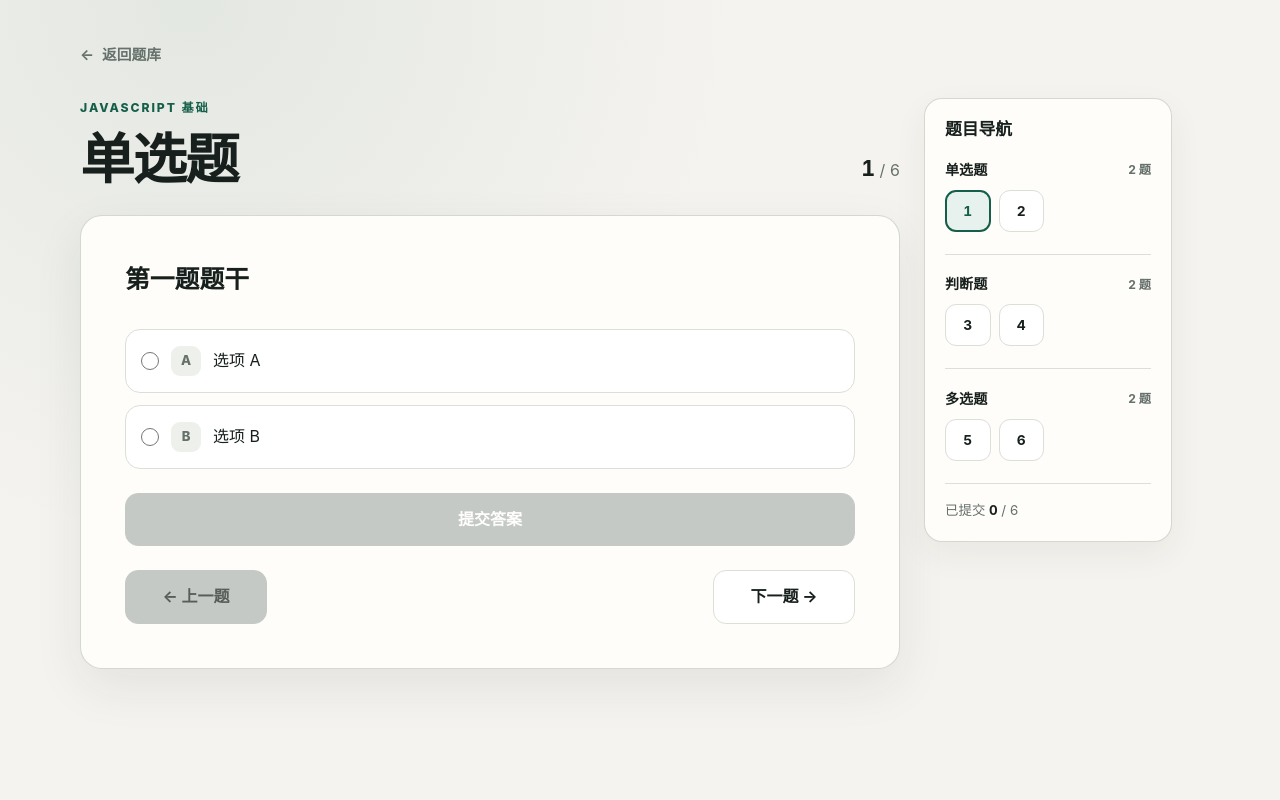
Scenario: PracticePage › preserves the selection after a failed submit and permits retry
Expected: the text "第一题题干" is shown, [125,264,249,294]
Step 1. Click the radio button labelled "A 选项 A" → (150, 361), box [141,352,159,370]
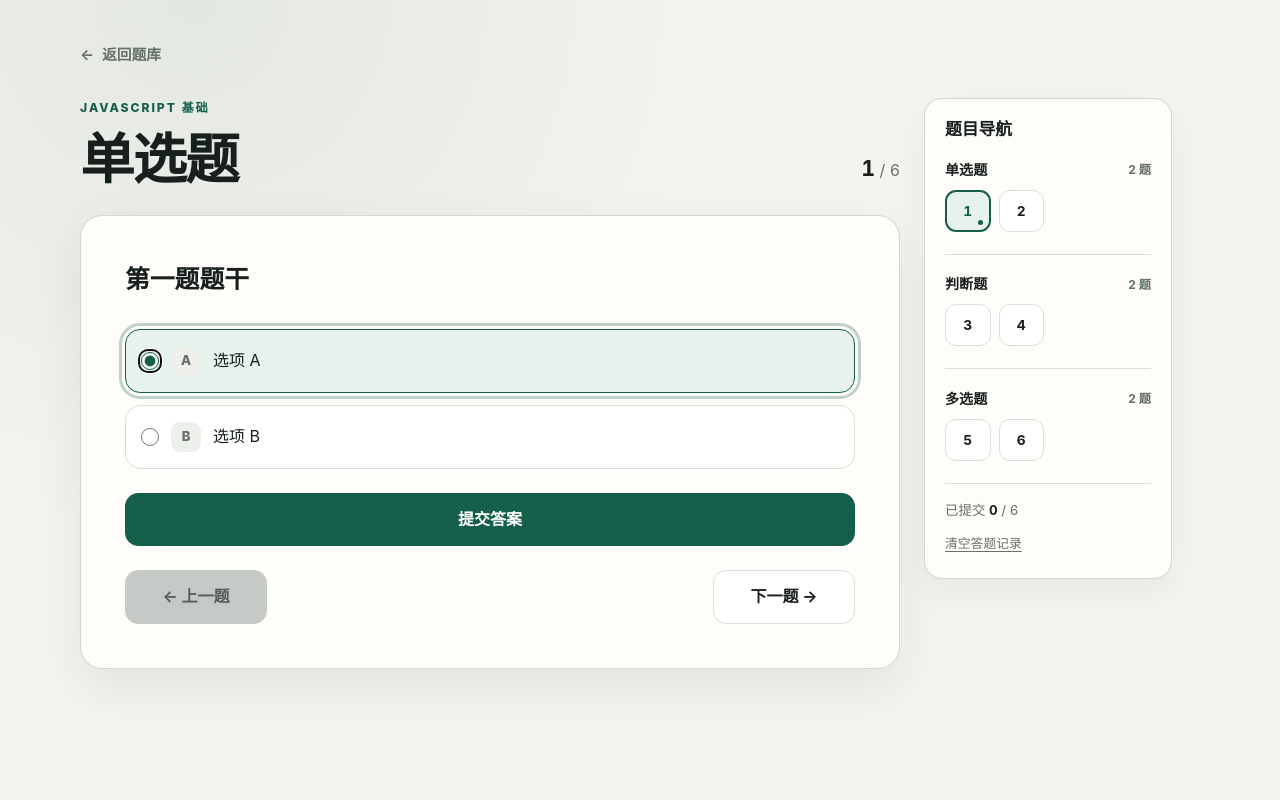
Step 2. Click the button "提交答案" → (490, 519), box [125,493,855,546]
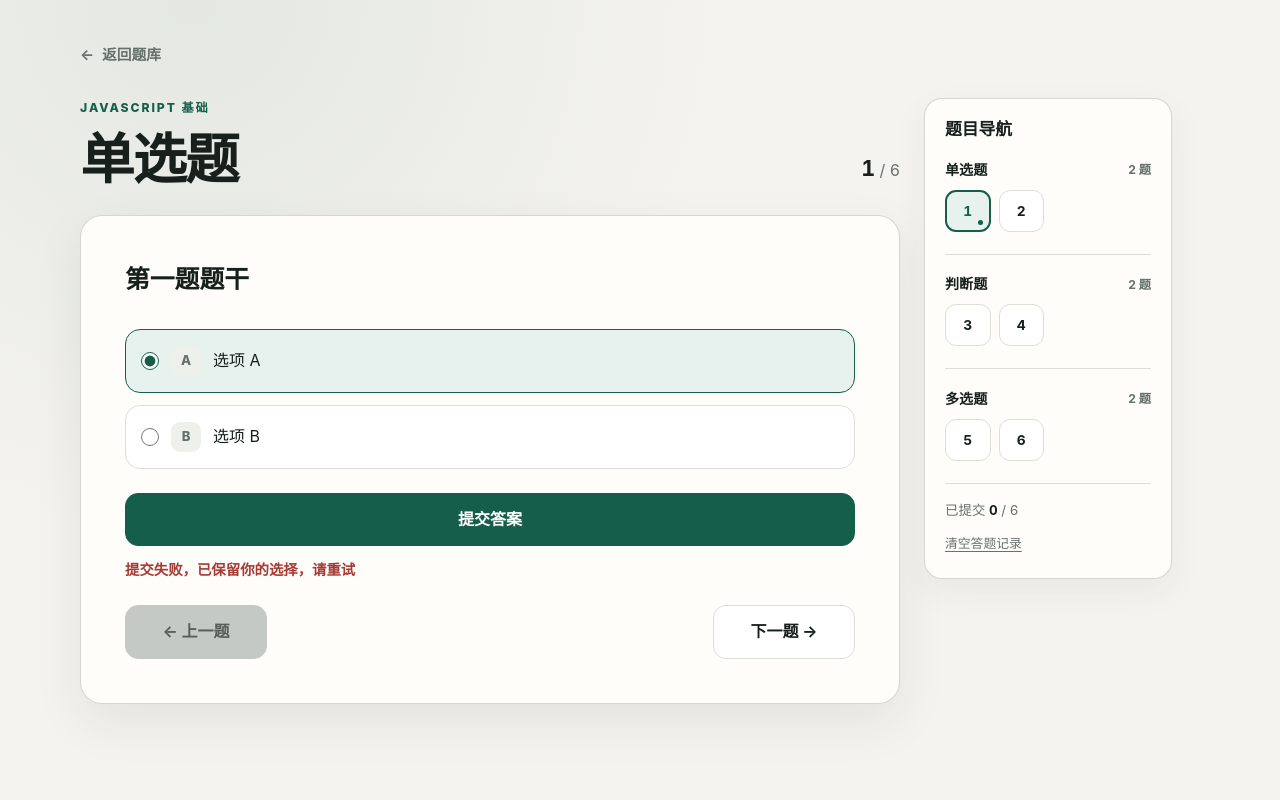
Expected: the radio button labelled "A 选项 A" is checked, [141,352,159,370]
Expected: the button "提交答案" is enabled
Expected: the text "提交失败，已保留你的选择，请重试" is shown, [125,561,355,578]
Step 3. Click the button "提交答案" → (490, 519), box [125,493,855,546]
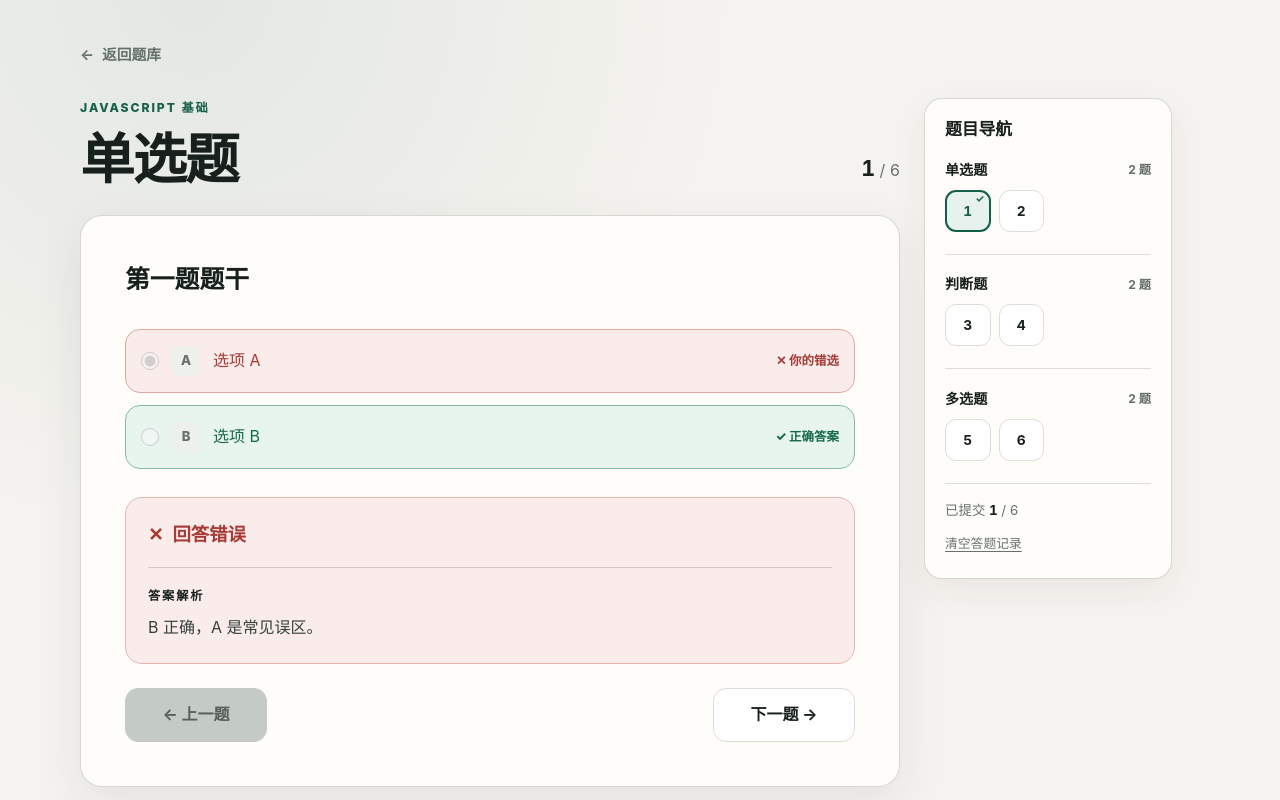
Expected: the text "回答错误" is shown, [172,523,246,545]
